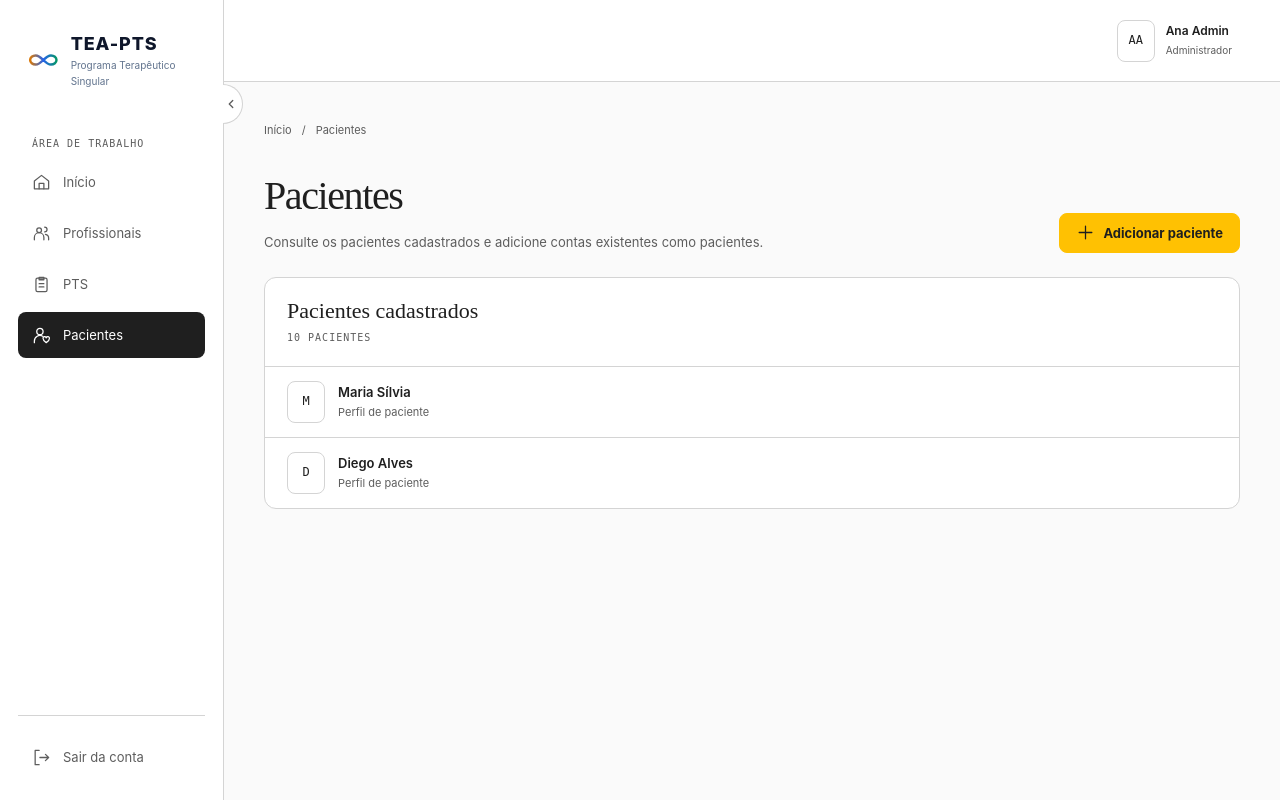
Test case: PatientsPage › modal "Adicionar paciente" › mostra o loading do select enquanto as contas carregam
This screenshot has width=1280, height=800.
Click the button "Adicionar paciente" at (1150, 233), box [1060,213,1240,253]
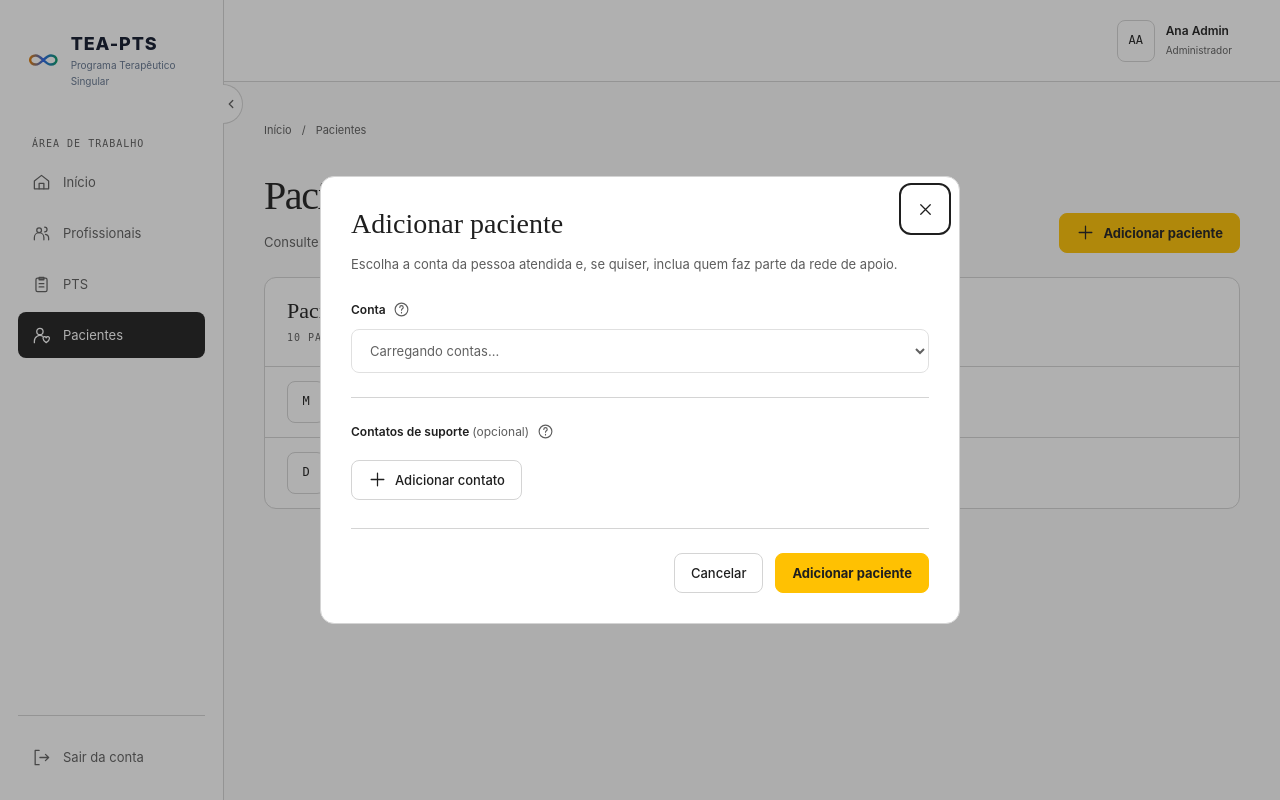
Expected: the dropdown labelled "Conta" is disabled, [351,329,929,373]
